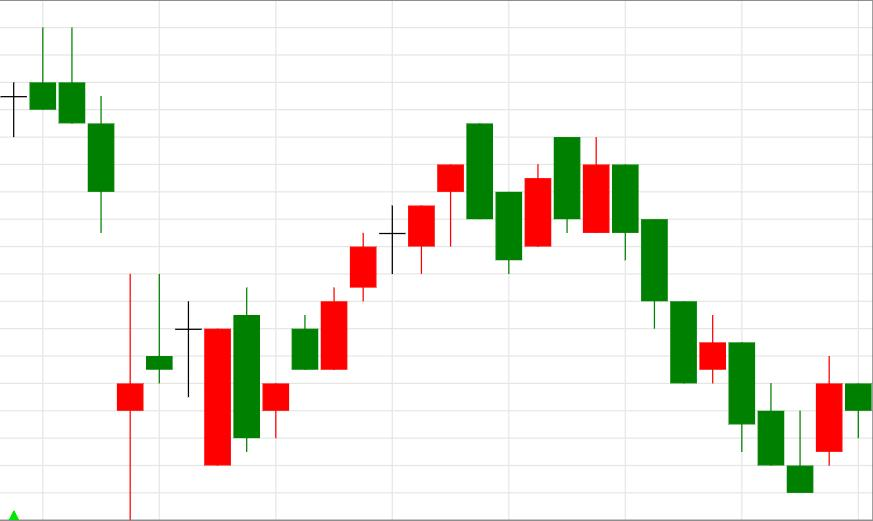three_black_crows_fall: (495, 135, 696, 383)
